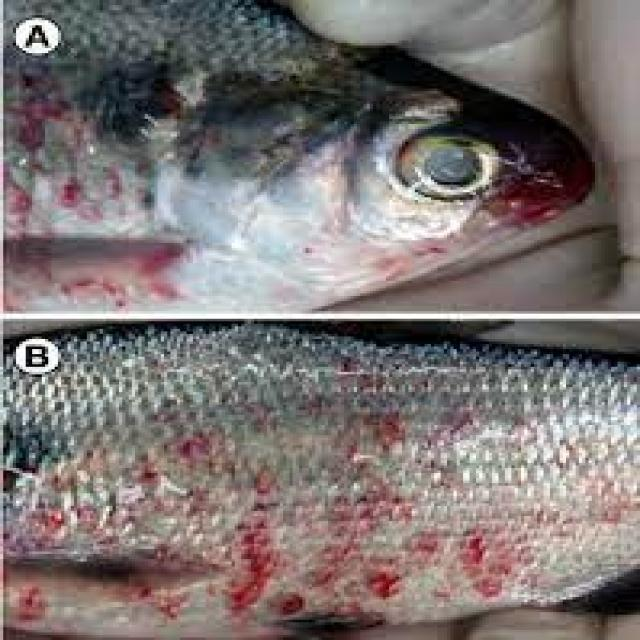EUS Disease: (3, 327, 639, 640), (2, 0, 594, 316)
